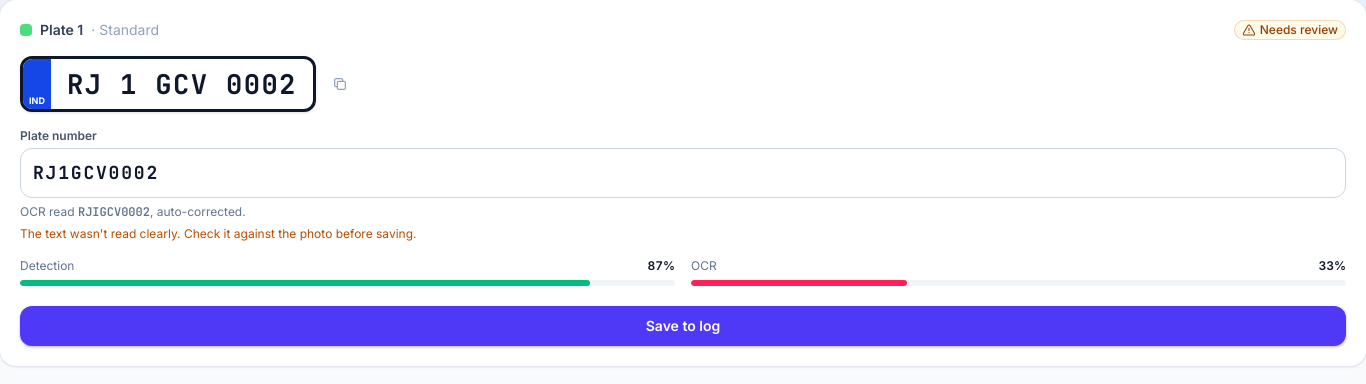
PlateCard › lets the user fix the text before saving
The image size is (1366, 384).
Later steps or results of the test are not shown.
Replace the text in the field labelled "Plate number" with "rj14xx" at (683, 173), box [20,148,1346,198]
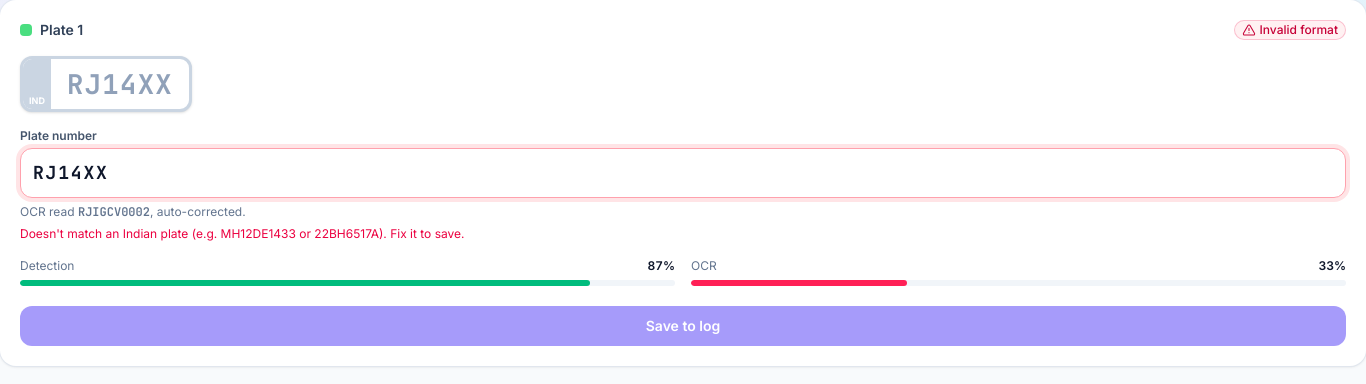
Check: the button "Save to log" is disabled, box [20,306,1346,346]
Check: the text "Invalid format" is shown, box [1234,20,1346,40]
Replace the text in the field labelled "Plate number" with "rj14cv0002" at (683, 173), box [20,148,1346,198]
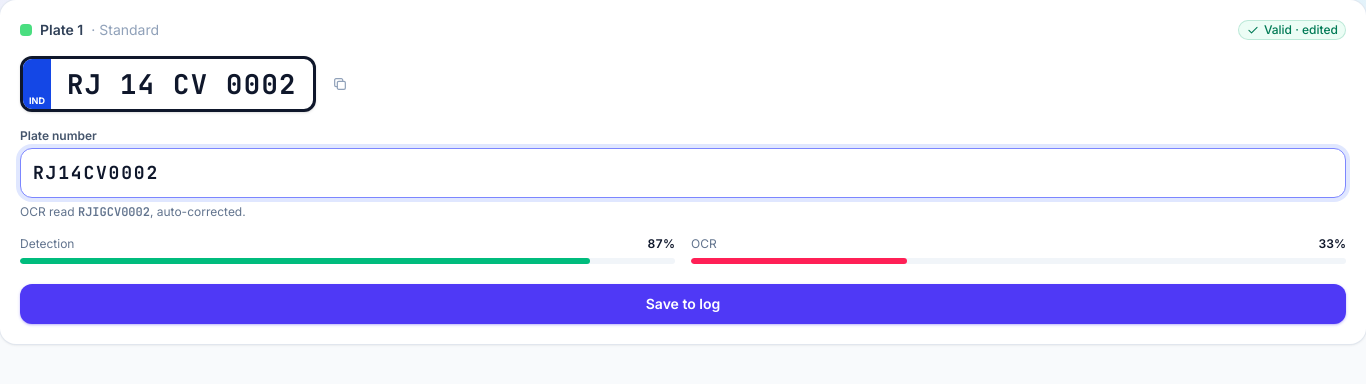
Check: the text "Valid · edited" is shown, box [1238,20,1346,40]
